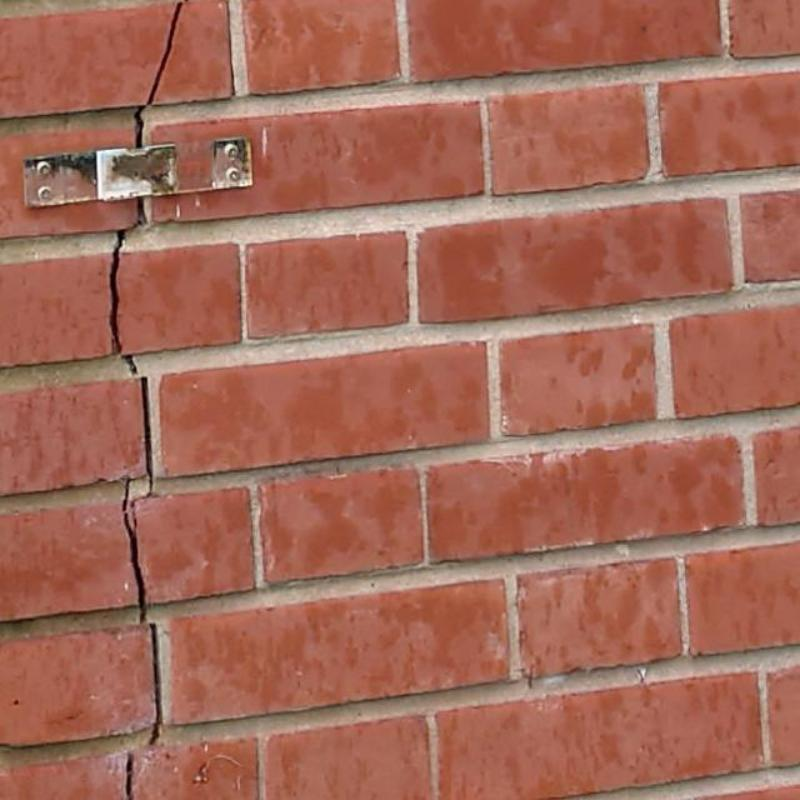pothole: (136, 1, 183, 147), (123, 481, 145, 622), (111, 230, 125, 353), (150, 622, 162, 744), (141, 377, 153, 494), (123, 752, 134, 800), (122, 355, 138, 375), (138, 197, 147, 227)
